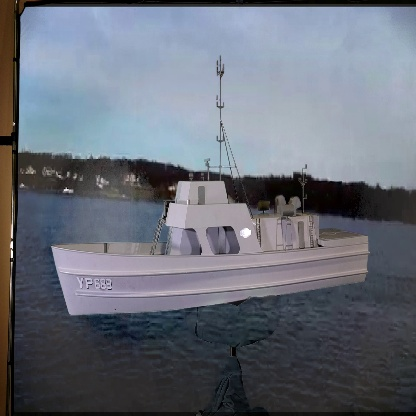YP689: (50, 51, 372, 319)
